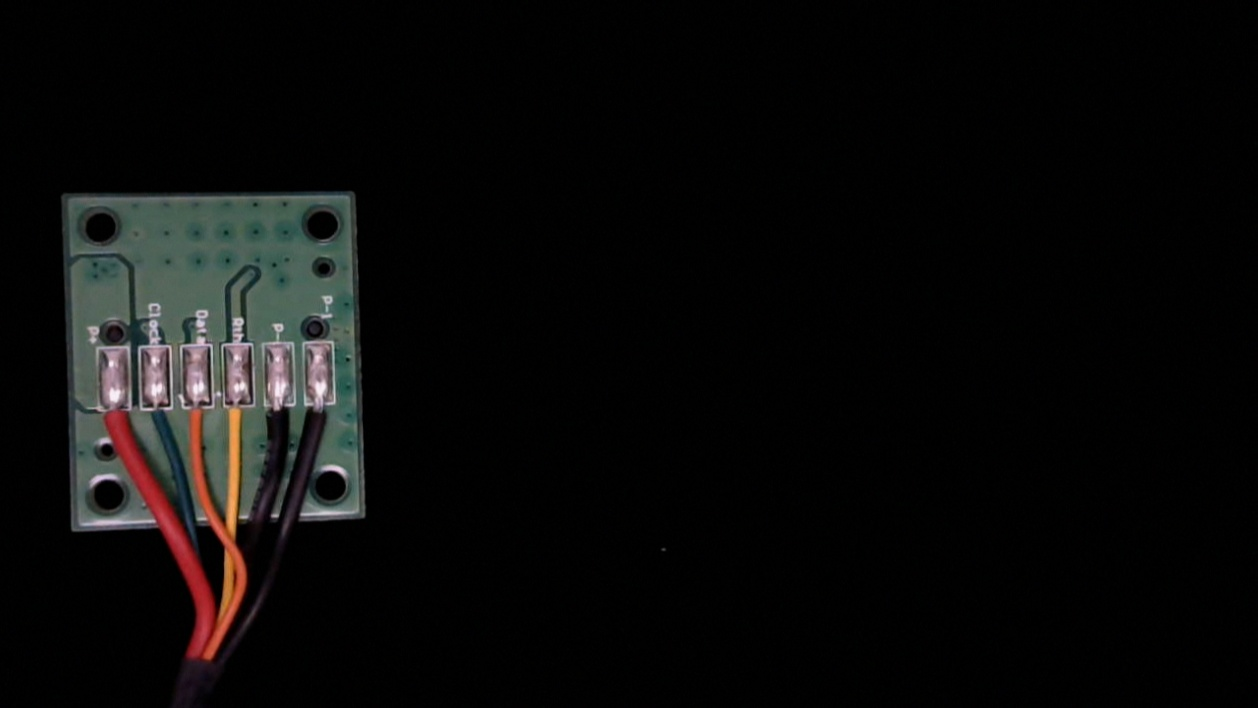Black: (263, 386, 294, 453)
Black1: (307, 386, 340, 452)
Green: (139, 389, 176, 455)
Orange: (181, 389, 215, 460)
Red: (96, 389, 132, 459)
Yellow: (220, 385, 256, 458)
